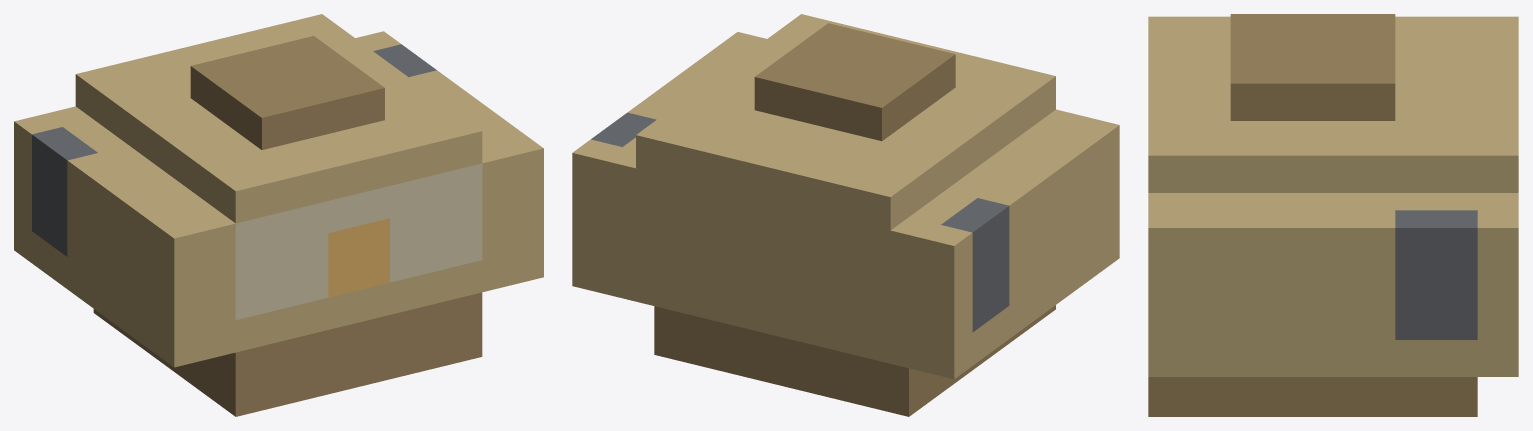
File: torso.glb
3 renders of one model, left to right at view 1: azimuth 30°, elevation 25°; view 2: azimuth 150°, elevation 25°; view 3: azimuth 270°, elevation 25°, orthographic. The views are drawn at different scales.
Size of the model in its own units: 12 by 8 by 9.
